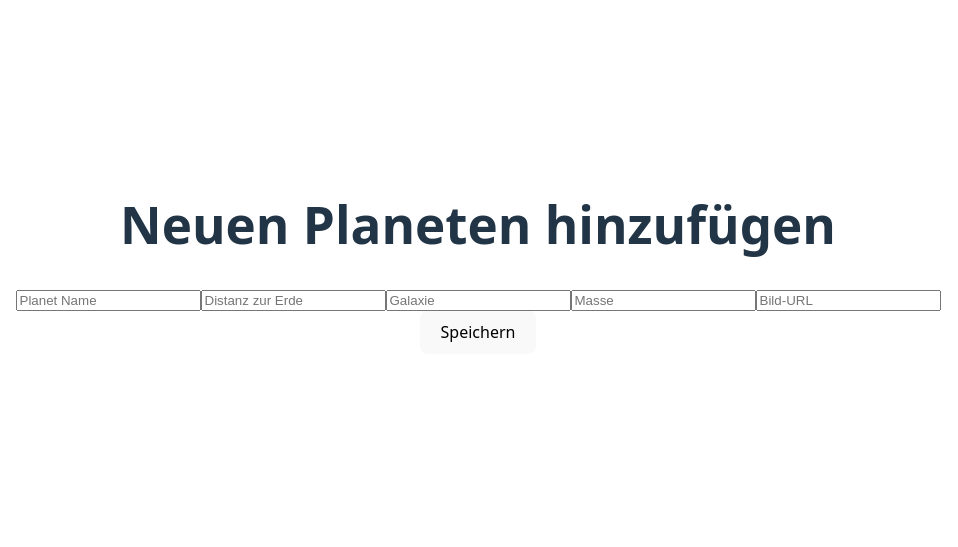
Test case: AdminForm Validation › zeigt Fehlermeldungen bei leeren Eingaben
Step 1. Click the button "Speichern" → (478, 332), box [420,311,536,354]
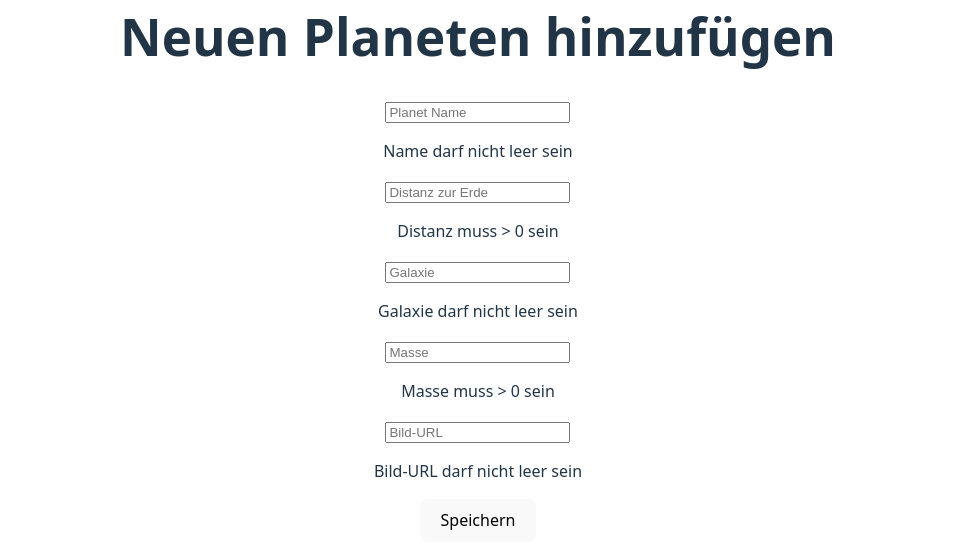
Expected: the text "Name darf nicht leer sein" is shown, [383,140,573,162]
Expected: the text "Distanz muss > 0 sein" is shown, [397,220,559,242]
